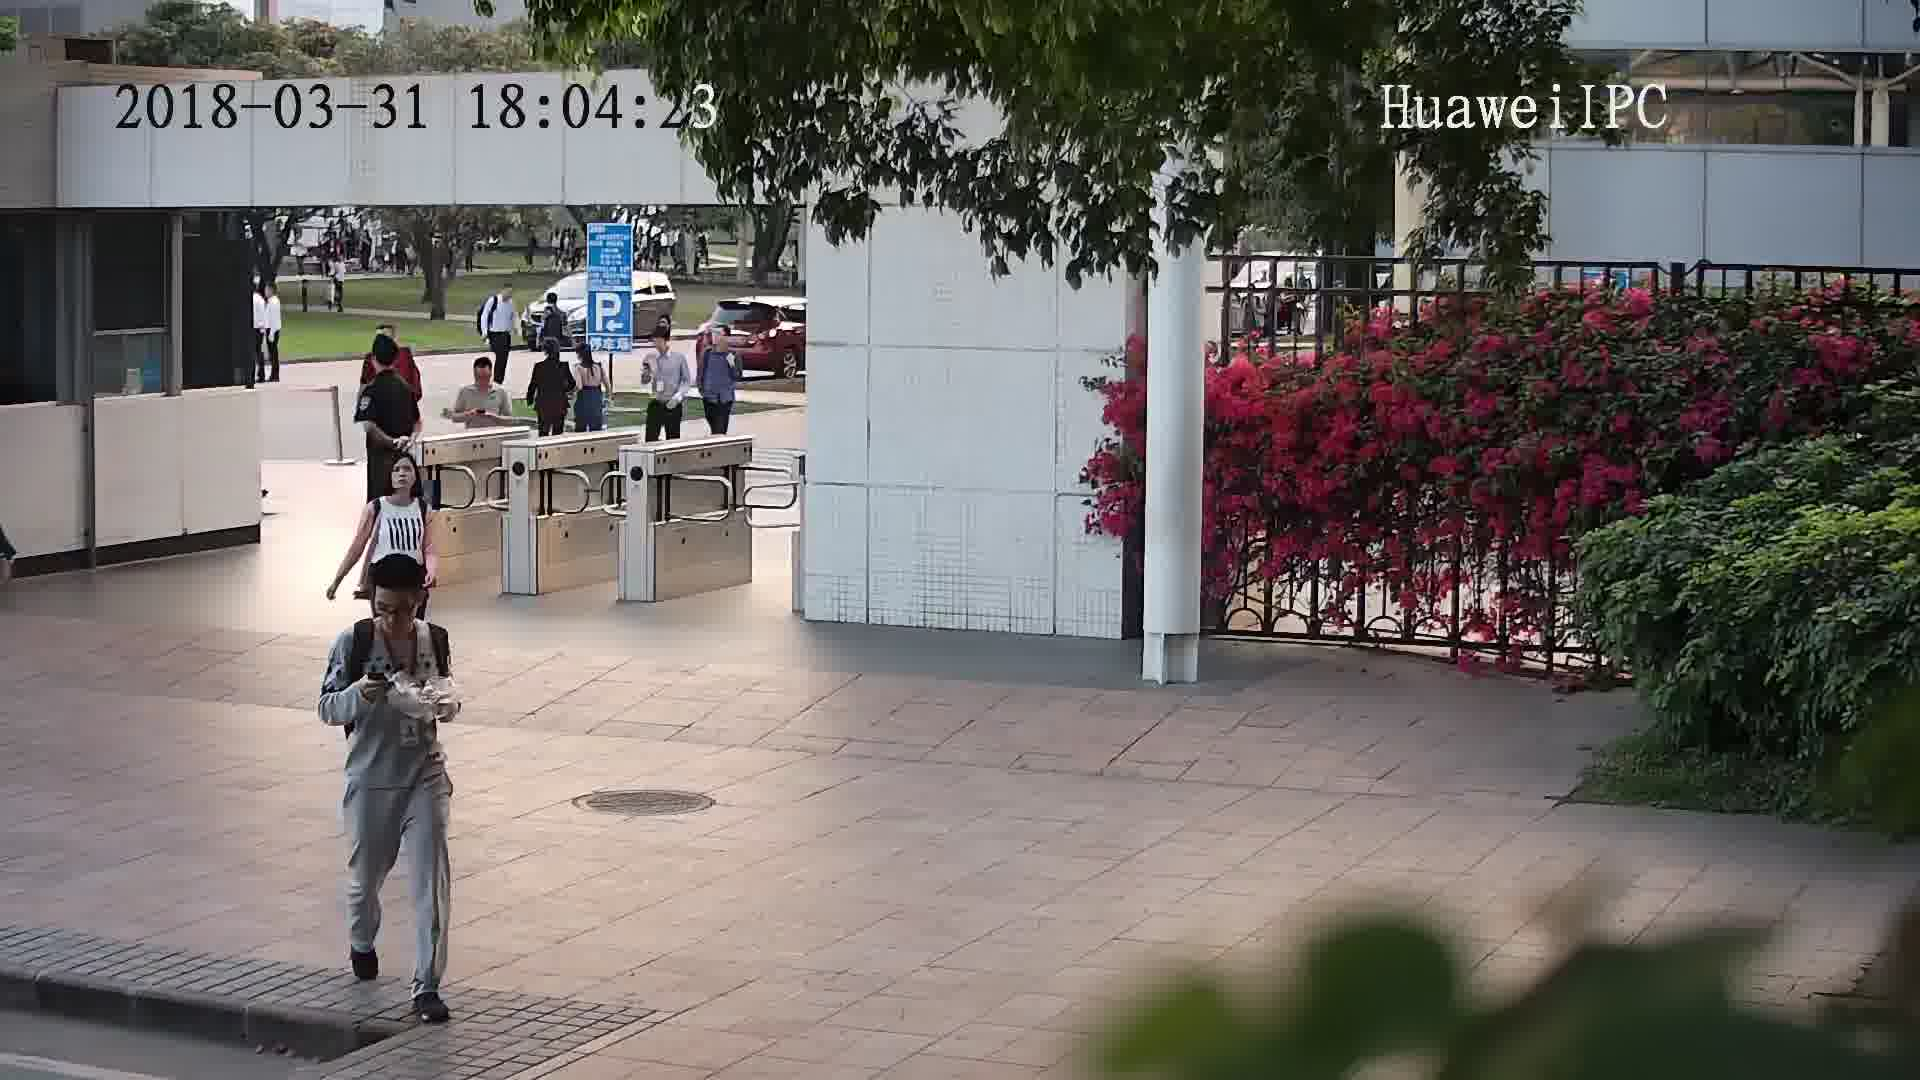face: (368, 580, 426, 638), (384, 456, 418, 495)
person: (338, 551, 443, 648), (370, 454, 431, 514), (362, 339, 407, 391), (460, 354, 506, 397), (653, 327, 688, 361), (534, 338, 568, 371), (574, 339, 603, 373), (258, 278, 283, 313), (486, 279, 514, 306), (540, 289, 565, 316)
